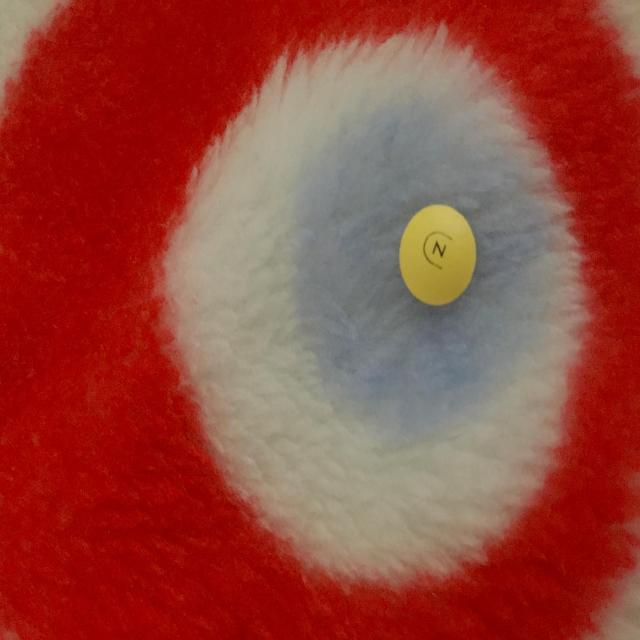pill: (400, 202, 478, 306)
